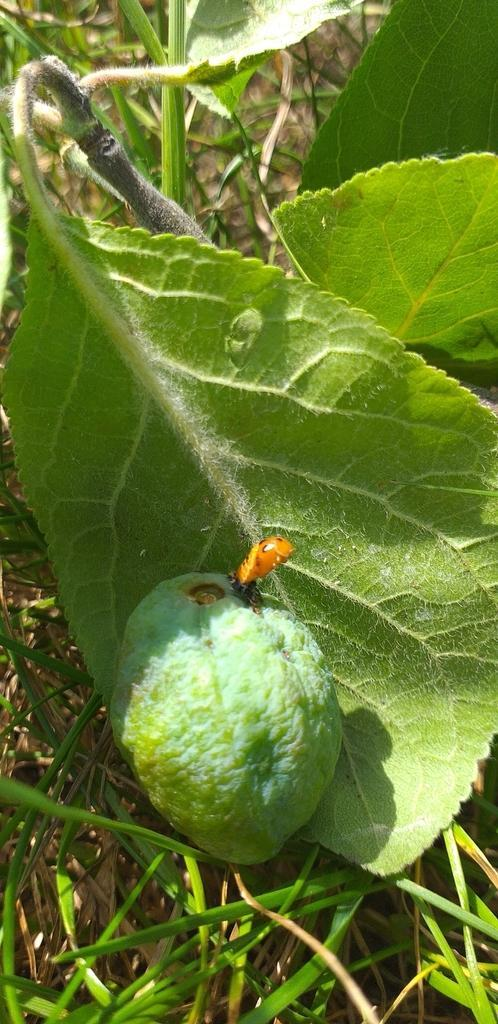ladybug: (227, 536, 299, 611)
